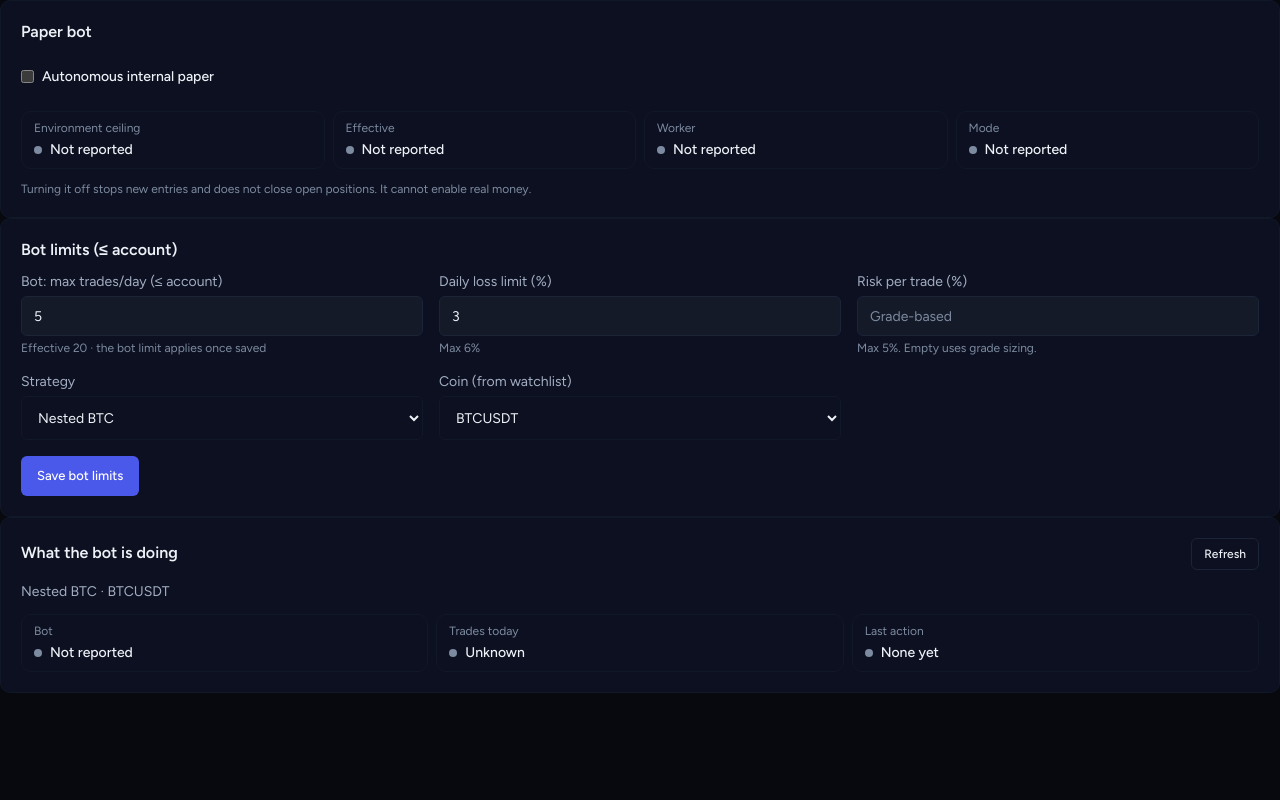
Test: Autonomous trading settings form › explains a bot cap above the account cap
The width and height of the screenshot is (1280, 800).
Replace the text in the field with test id "autonomous-max-trades" with "25" at (222, 316), box left=21, top=296, right=423, bottom=336
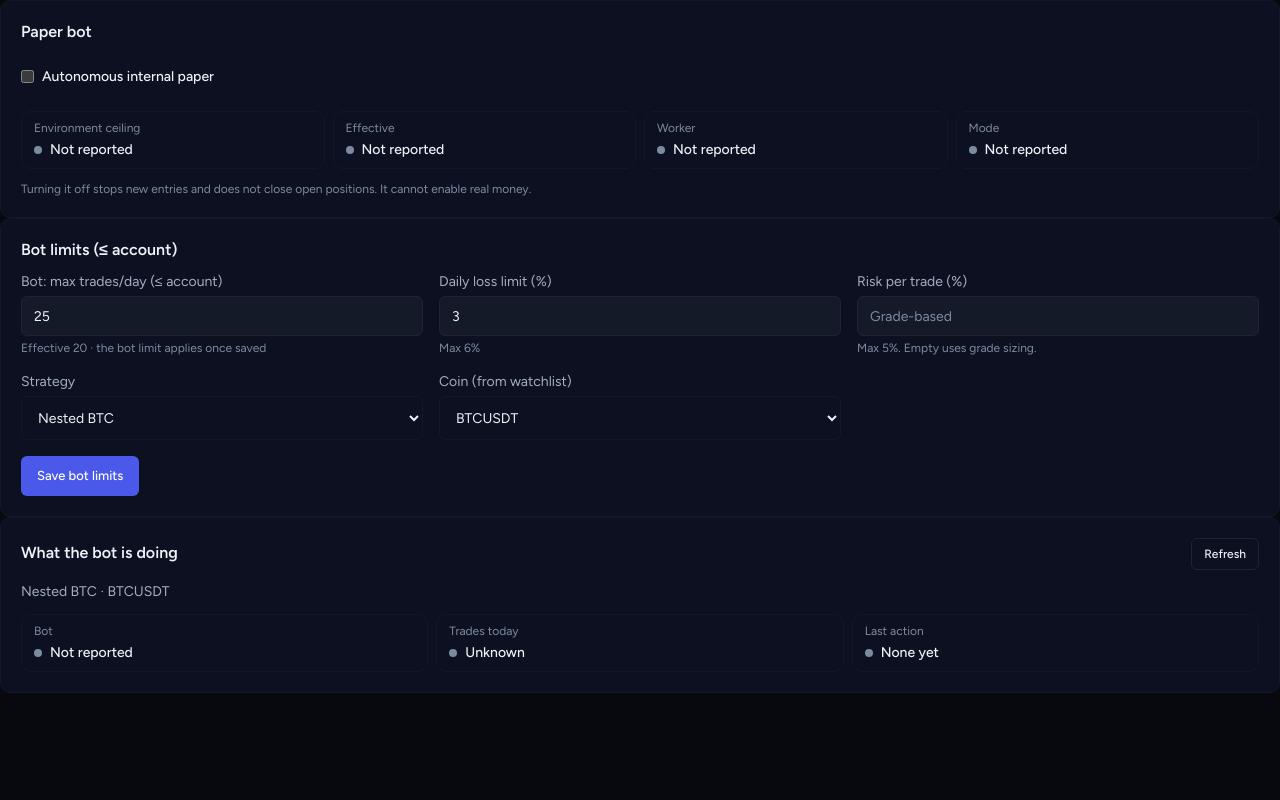
Click the button "Save bot limits".
click(80, 476)  # box left=21, top=456, right=139, bottom=496
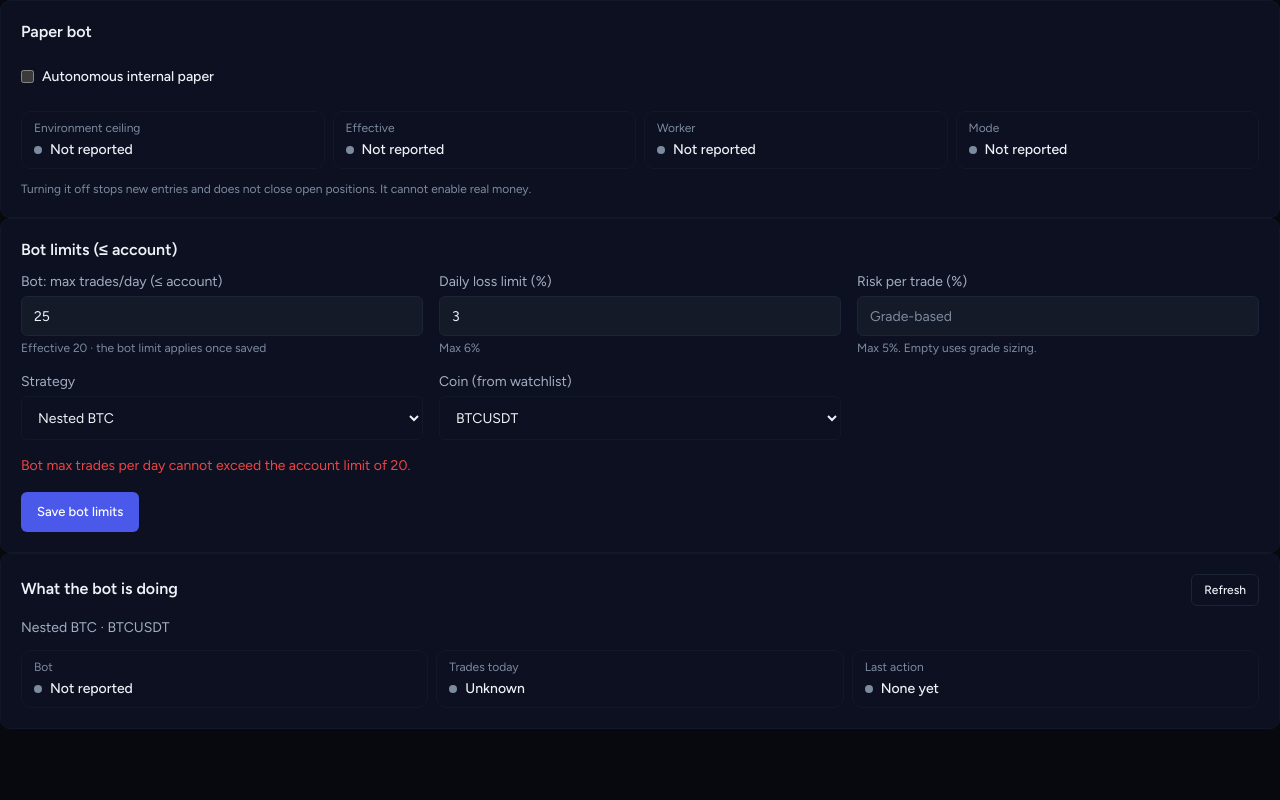
Now the message reads "Bot max trades per day cannot exceed the account limit of 20.", box left=21, top=457, right=410, bottom=474
